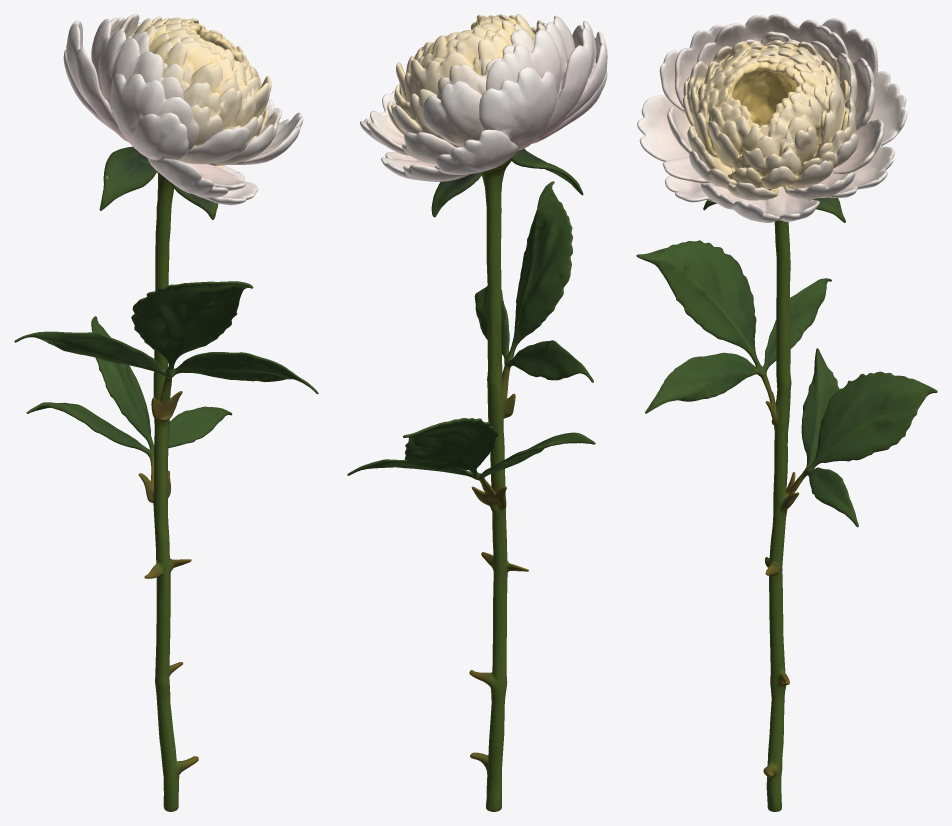
Rendered from WhitePeony.glb.
3 renders of one model, left to right at view 1: azimuth 30°, elevation 25°; view 2: azimuth 150°, elevation 25°; view 3: azimuth 270°, elevation 25°, orthographic. The views are drawn at different scales.
Visible parts, largest first — view 1: tripo_node_87089d09-2c43-440d-aff9-6bb8ca9ff486; view 2: tripo_node_87089d09-2c43-440d-aff9-6bb8ca9ff486; view 3: tripo_node_87089d09-2c43-440d-aff9-6bb8ca9ff486.
Boxes of the visible parts, x1,y1,x2,y2 form: tripo_node_87089d09-2c43-440d-aff9-6bb8ca9ff486: (14,14,318,811); tripo_node_87089d09-2c43-440d-aff9-6bb8ca9ff486: (347,14,607,811); tripo_node_87089d09-2c43-440d-aff9-6bb8ca9ff486: (636,14,937,811).
Bounding box in the file's own units: 0.3288 × 1 × 0.3531.
1 material, 1 textured.
